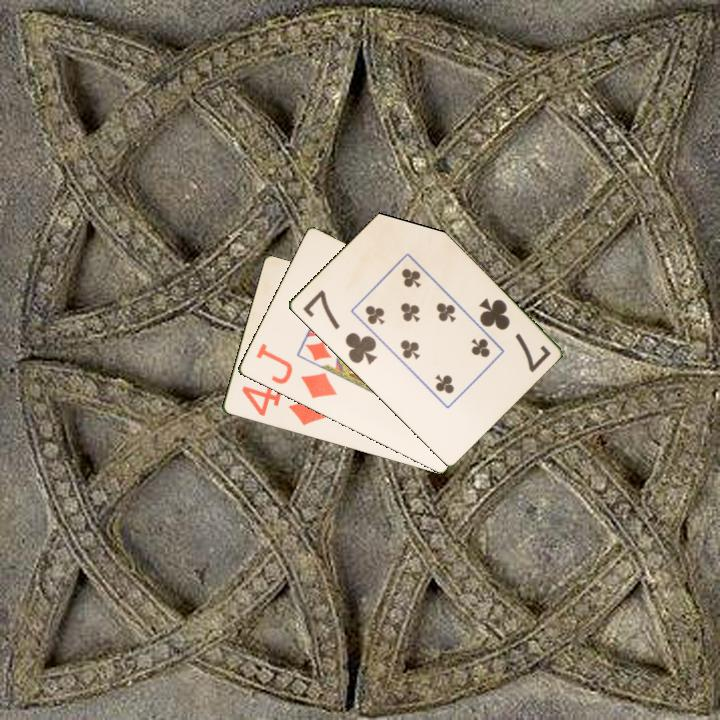4d: (238, 382, 329, 429)
7c: (299, 286, 379, 368), (475, 294, 554, 376)
Jd: (252, 340, 340, 402)
